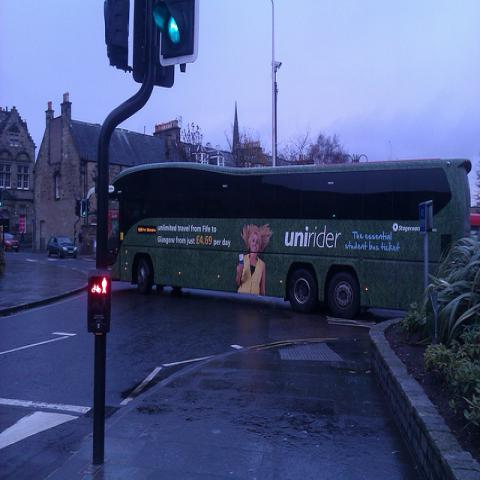bus: (106, 158, 473, 319)
car: (47, 236, 77, 258), (0, 232, 18, 252)
